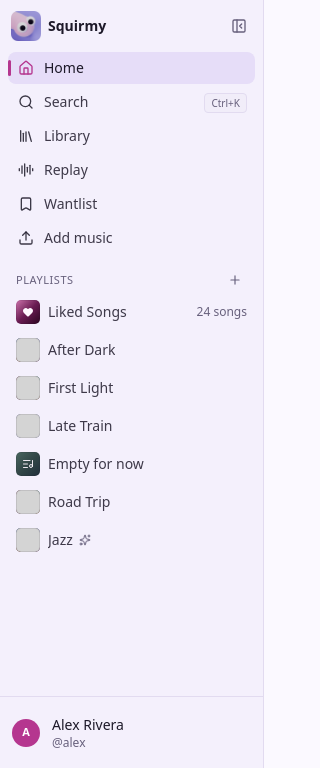
Test: Sidebar › account menu › opens Settings
Step 1. Click the button with aria-label "Account, Alex Rivera" → coordinates (132, 732), box [8,712,255,752]
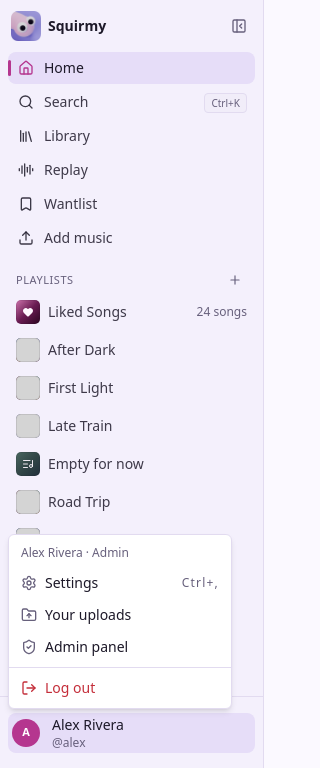
Step 2. Click the menu item "Settings Ctrl+," → coordinates (72, 582), box [21,573,219,592]
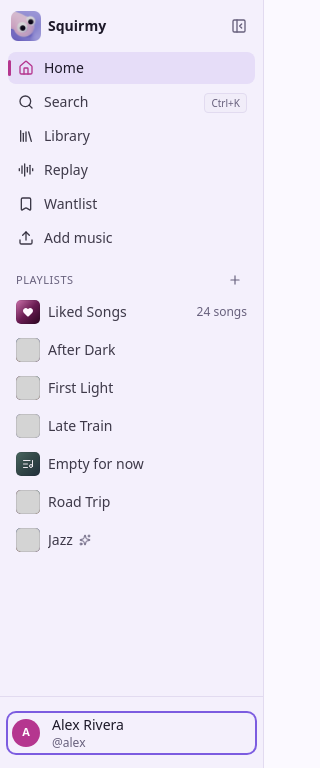
Result: the menu is gone
